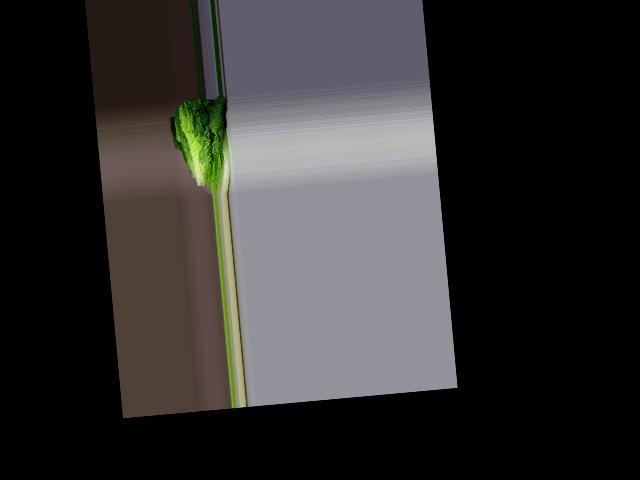lettuce: (175, 94, 235, 192)
